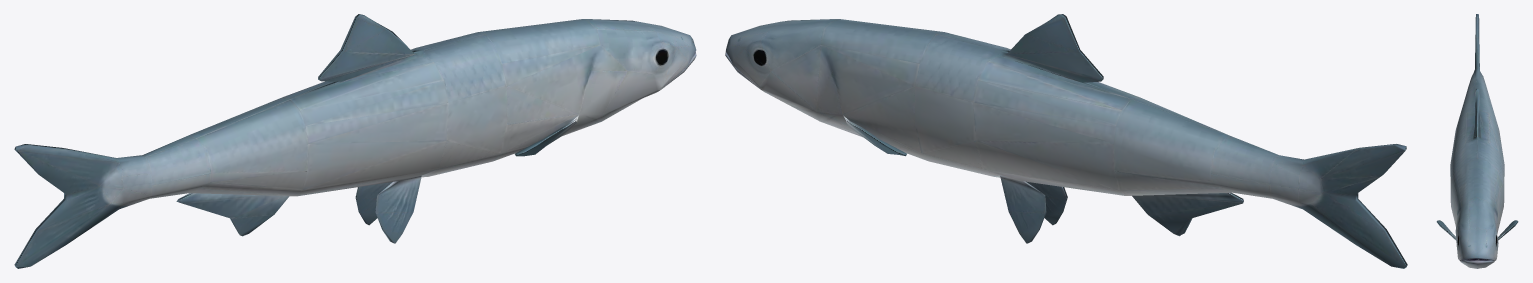
Rendered from fish_micro.glb.
3 renders of one model, left to right at view 1: azimuth 30°, elevation 25°; view 2: azimuth 150°, elevation 25°; view 3: azimuth 270°, elevation 25°, orthographic. The views are drawn at different scales.
Parts seen in each view (by area): view 1: geometry_0; view 2: geometry_0; view 3: geometry_0.
Part boxes in pixels (x1,y1,x2,y2): geometry_0: (14,14,696,268); geometry_0: (725,14,1407,268); geometry_0: (1436,14,1518,268).
Bounding box in the file's own units: 1 × 0.3154 × 0.1662.
1 material, 1 textured.
